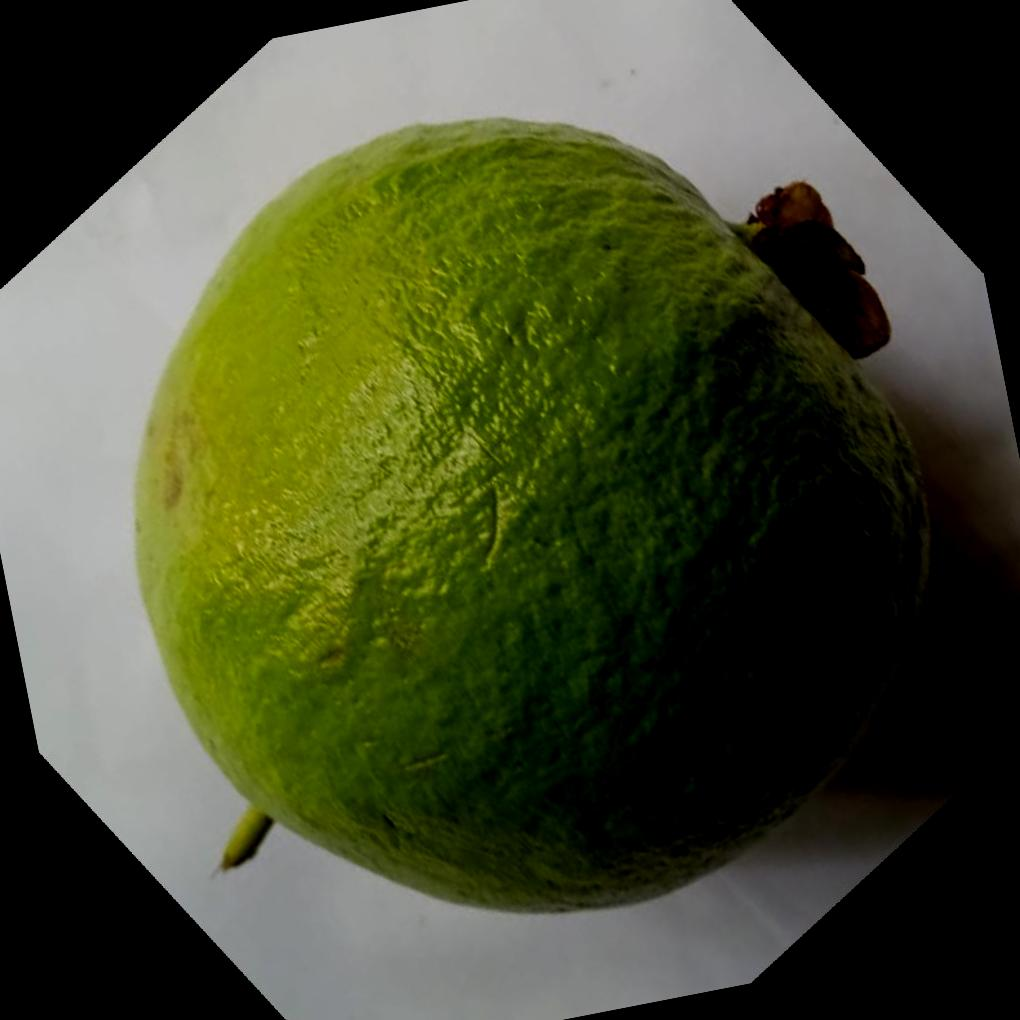FreshGuava: (129, 111, 933, 913)
